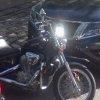Motorcycle: (5, 23, 100, 99)
